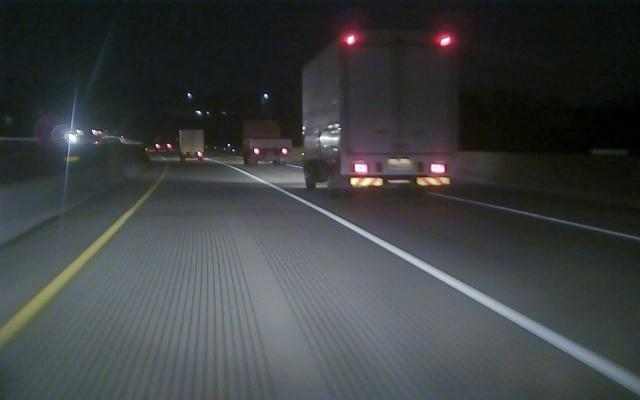lane: (247, 174, 638, 394), (2, 198, 146, 347), (448, 194, 640, 242)
